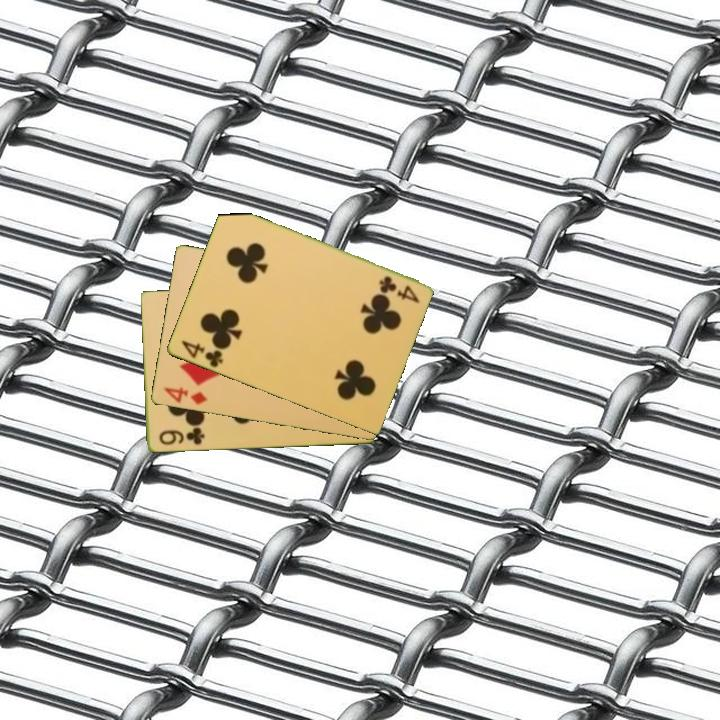4c: (177, 337, 225, 371), (375, 272, 423, 306)
4d: (160, 384, 210, 408)
9c: (155, 424, 207, 448)
